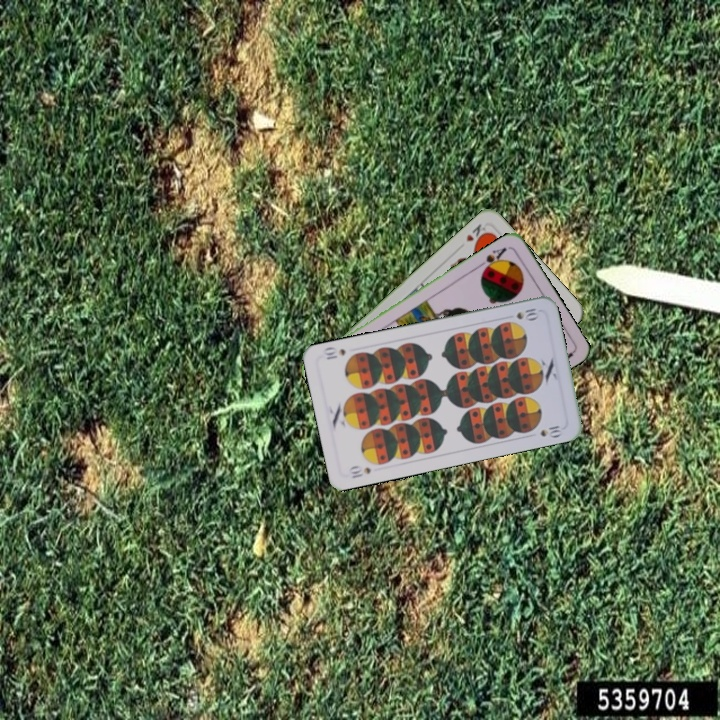HK: (462, 220, 490, 247)
S10: (345, 462, 374, 481), (512, 303, 540, 322)
SA: (474, 243, 509, 275)
